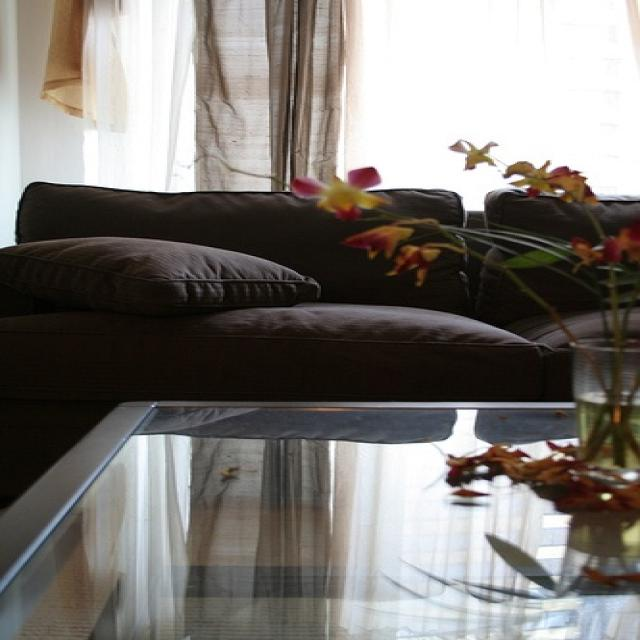sofa: (14, 179, 638, 403)
